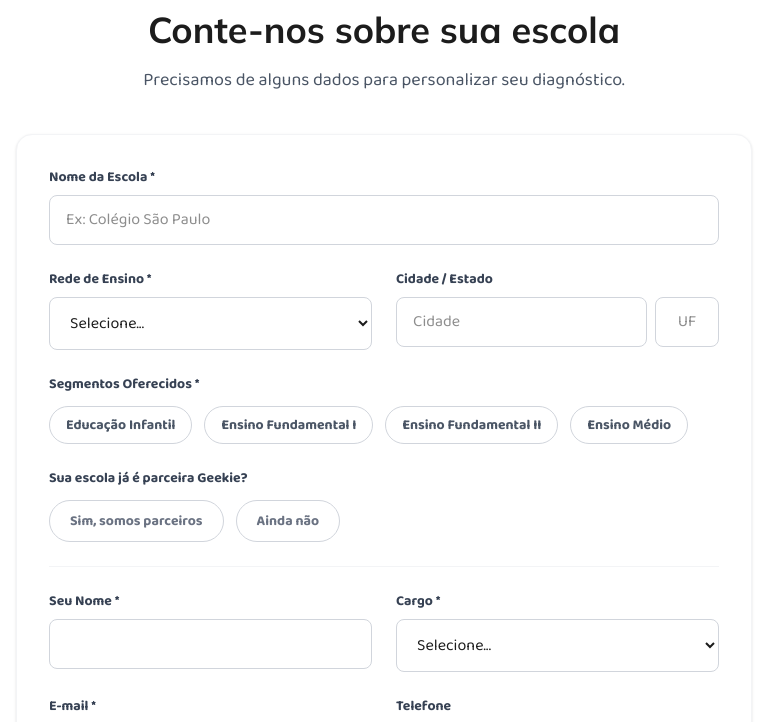
Cadastro form › exibe erro no campo nome após blur sem preenchimento
Click the field with placeholder "Ex: Colégio São Paulo".
click(384, 220)  # box [49, 195, 719, 245]
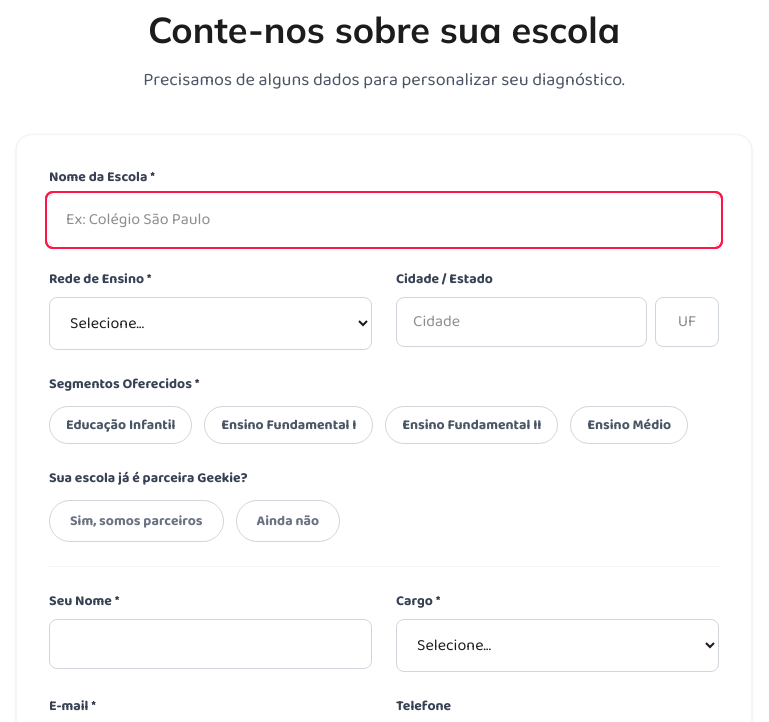
Press Tab
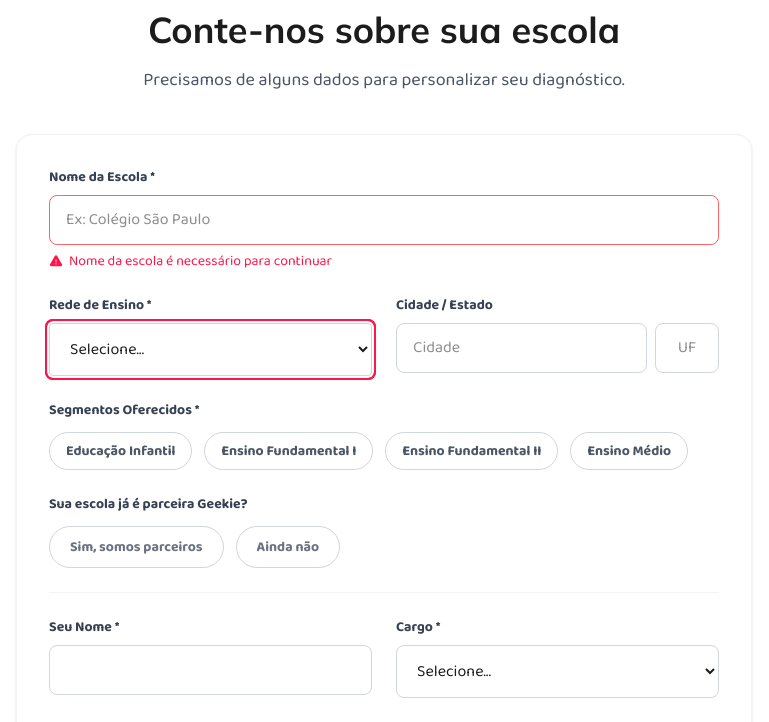
Now the text "Nome da escola é necessário para continuar" is shown, box [49, 250, 332, 272]
